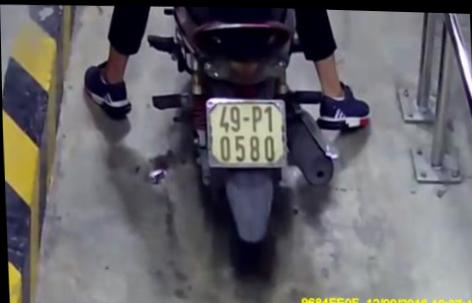LP: (204, 93, 289, 170)
